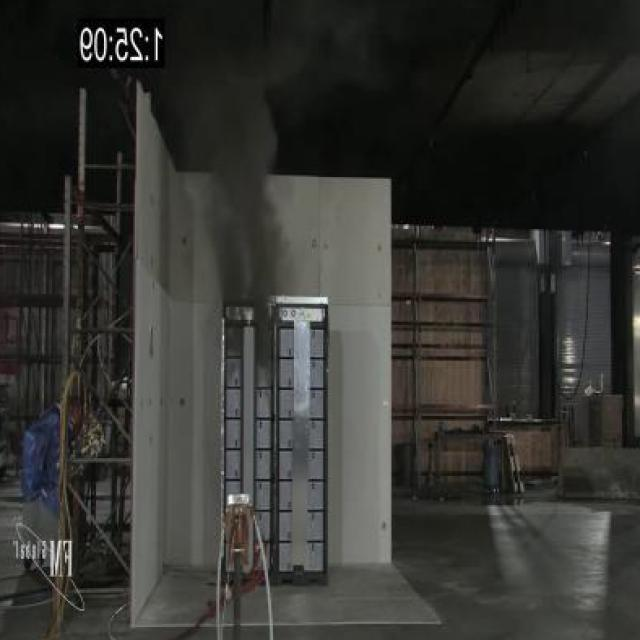fire: (185, 89, 288, 294)
